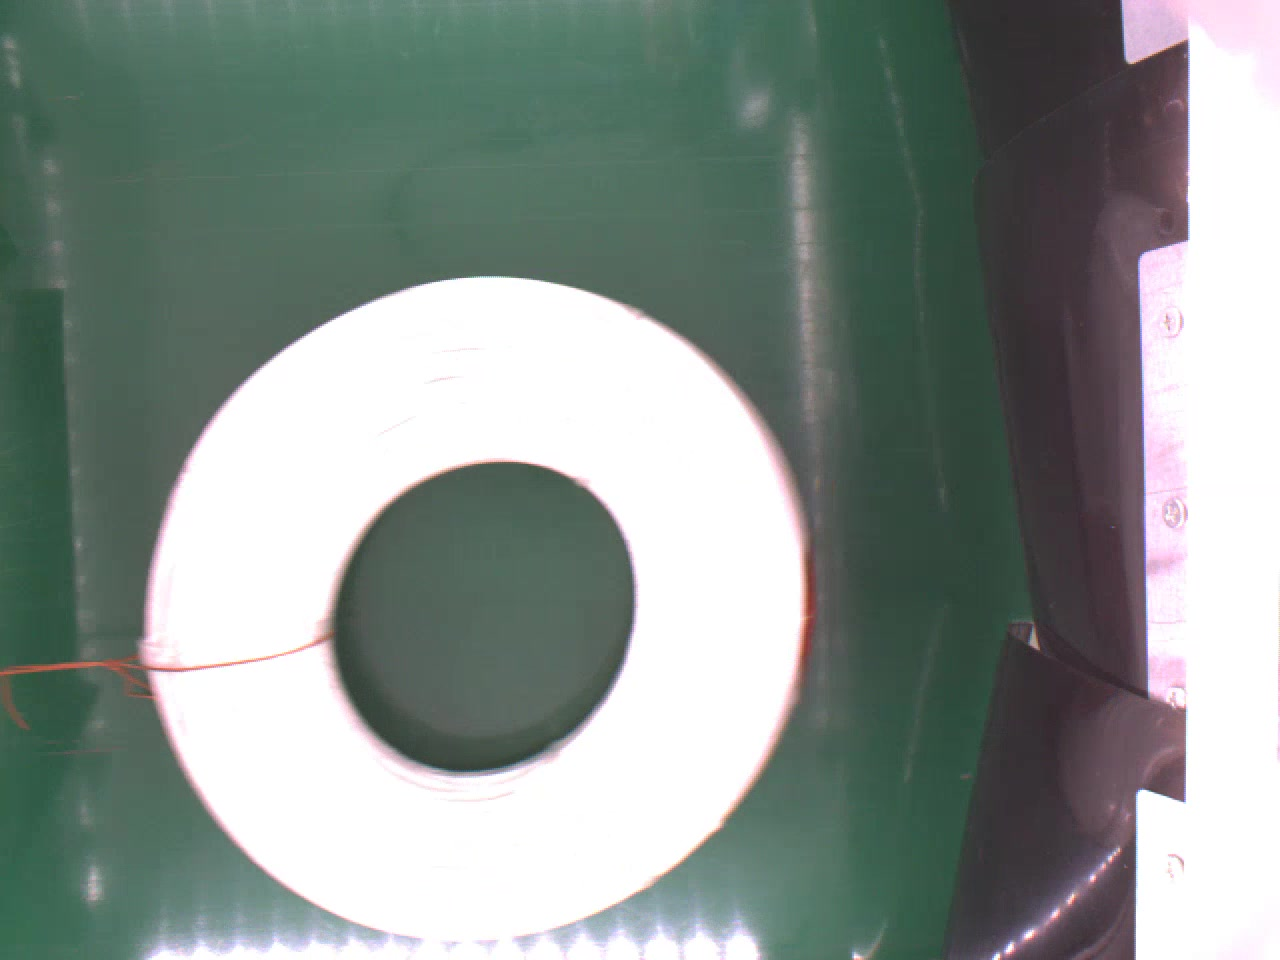white: (137, 265, 819, 938)
